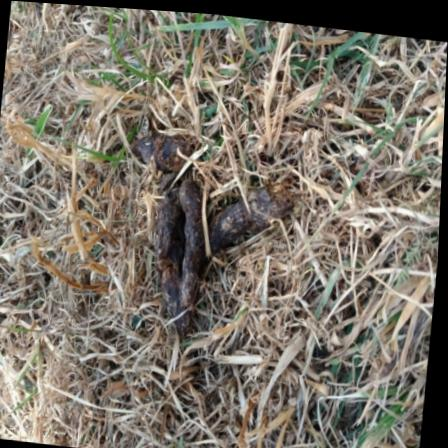dog-poop: (150, 176, 211, 327), (205, 160, 292, 263), (131, 129, 201, 167)
